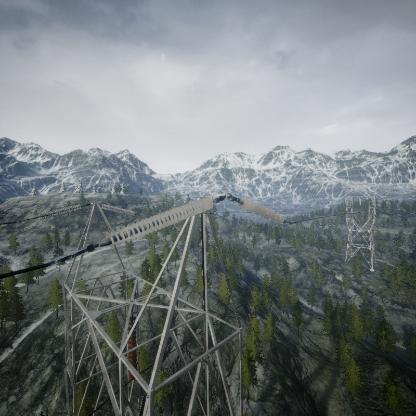insulator: (96, 196, 216, 250), (234, 198, 286, 225), (122, 315, 141, 377)
tower: (340, 178, 376, 276)
